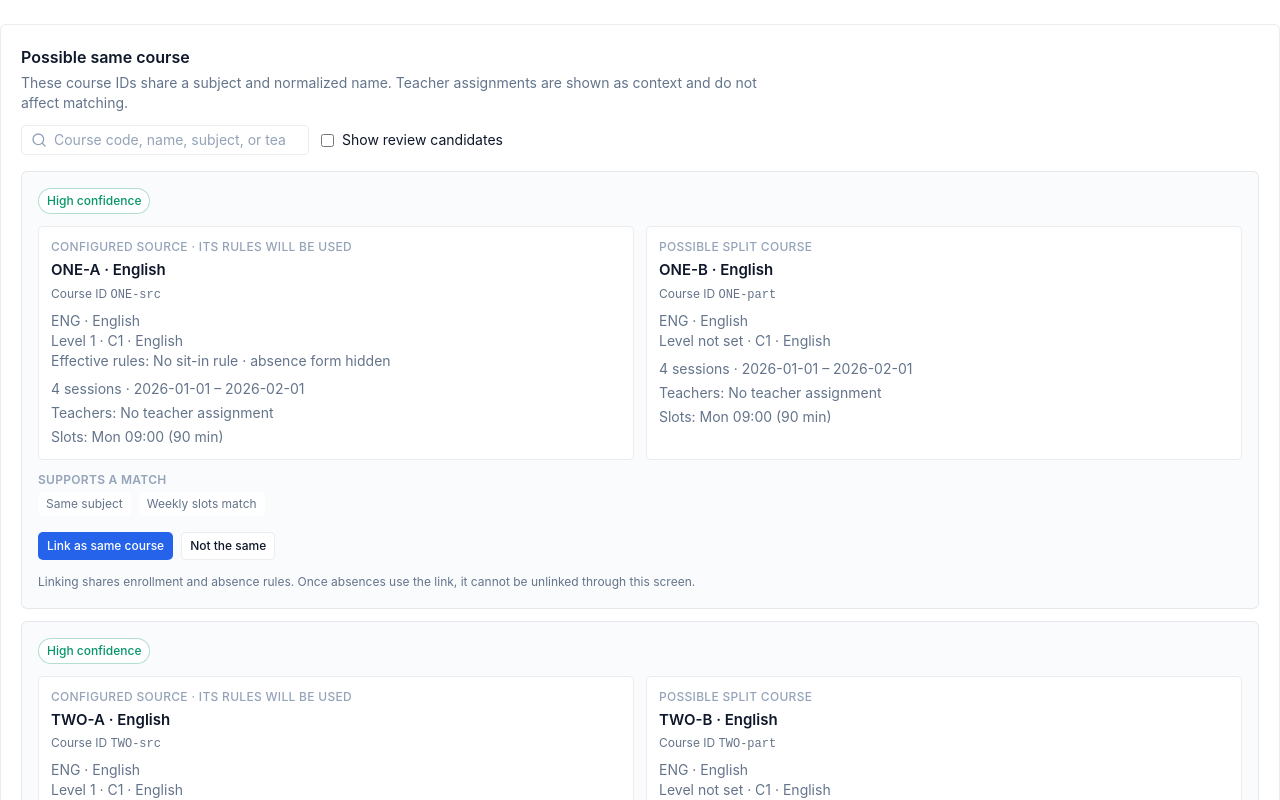
CourseLinkSuggestionsPanel › disables every action while one runs, announces the result, and focuses the next suggestion
Click the button "Not the same".
click(228, 546)  # box [181,532,275,560]
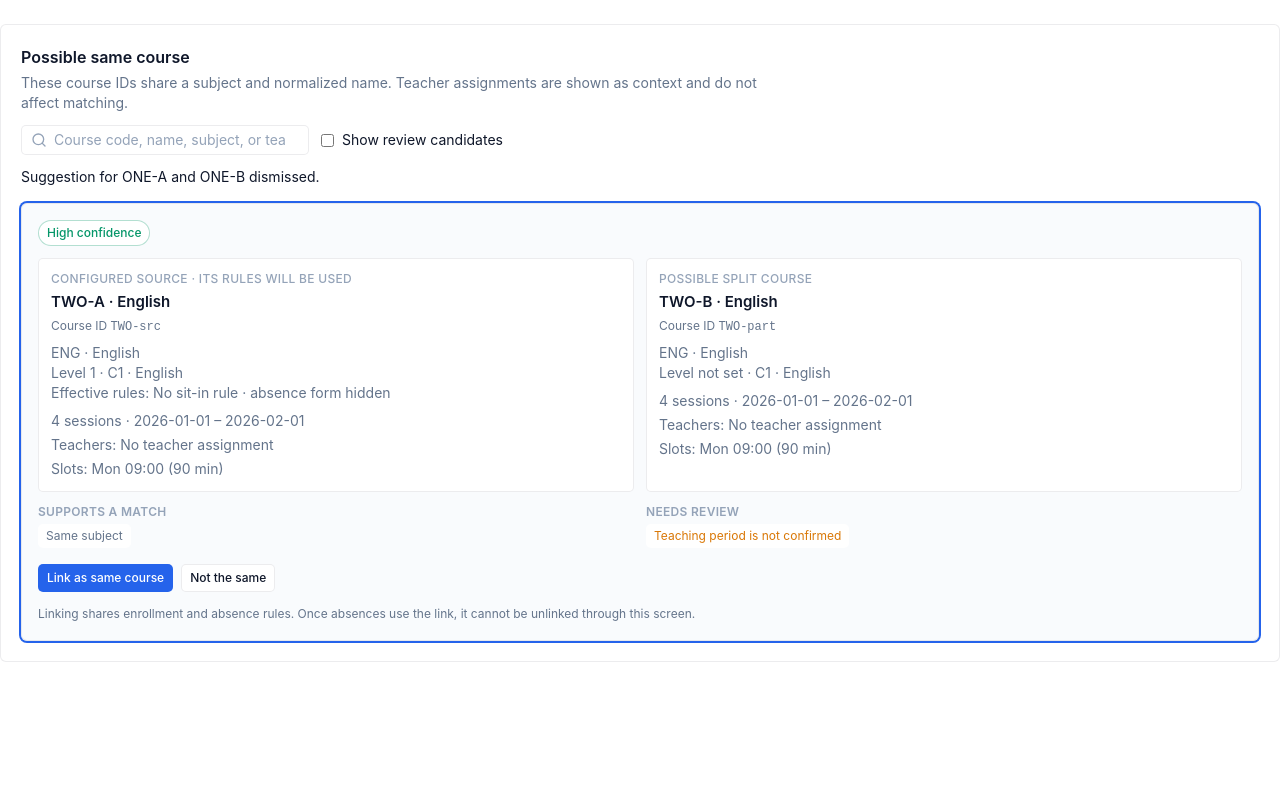
Check: the message reads "Suggestion for ONE-A and ONE-B dismissed.", box [21,168,320,185]
